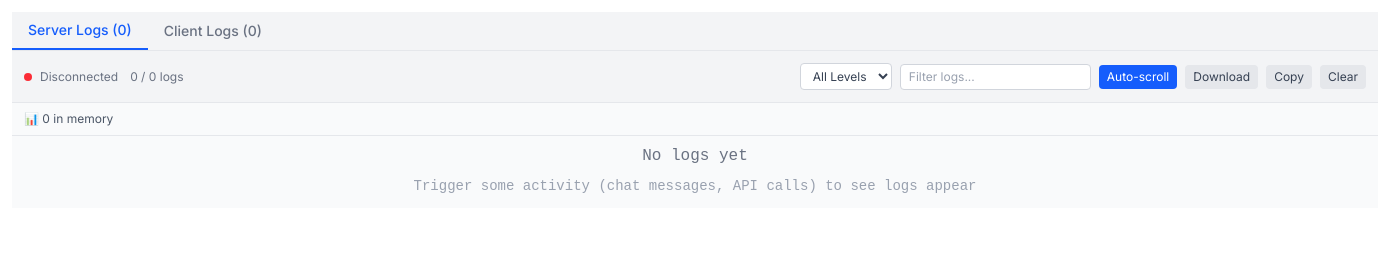
Scenario: LogViewer Integration Tests › filtering › filters client logs by level
Note: Switch to client tab
Step 1. Click the button "Client Logs (0)" → (213, 31), box [148,12,278,50]
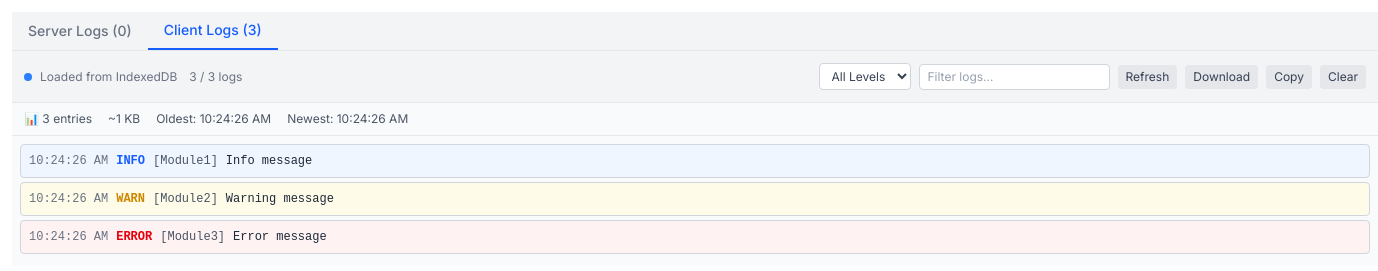
Now the text "Info message" is shown, box [226,154,312,168]
Now the text "Warning message" is shown, box [226,192,334,206]
Now the text "Error message" is shown, box [233,230,327,244]
Note: Filter by level
Step 2. Select "Error" in the dropdown showing "All Levels" → (864, 76), box [818,63,910,90]
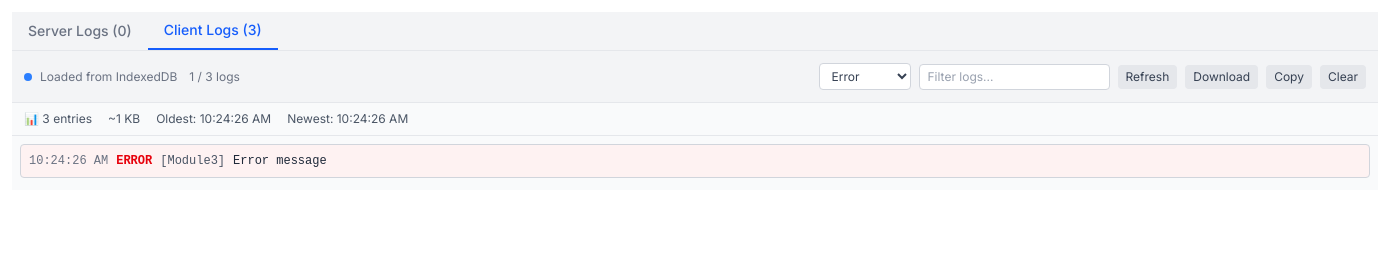
Now the text "Info message" is gone
Now the text "Warning message" is gone
Now the text "Error message" is shown, box [233,154,327,168]
